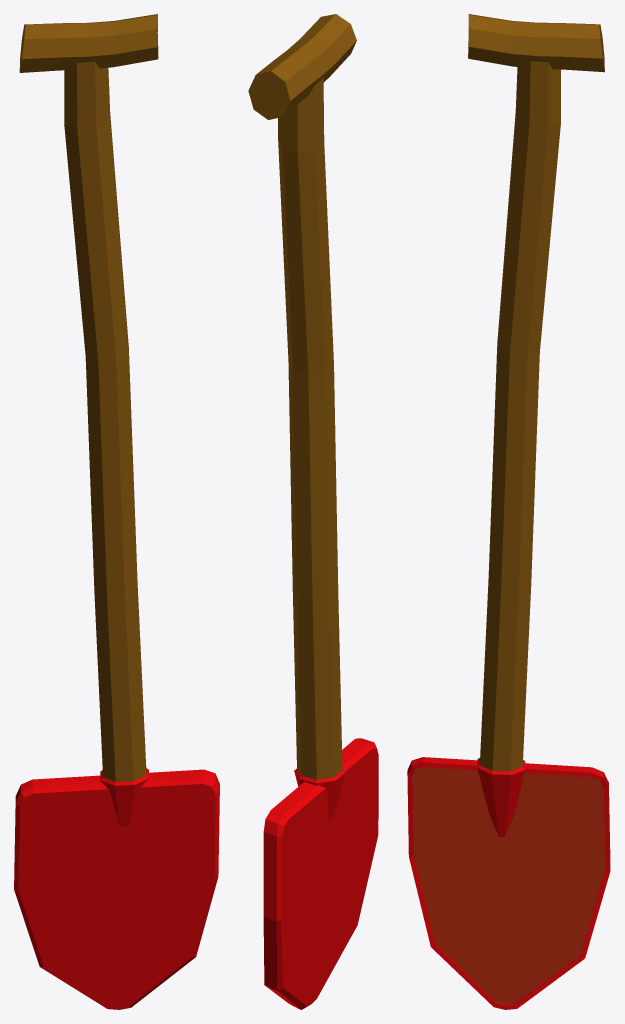
The model's file is badile2.glb.
3 renders of one model, left to right at view 1: azimuth 90°, elevation 25°; view 2: azimuth 150°, elevation 25°; view 3: azimuth 270°, elevation 25°, orthographic.
Visible parts, largest first — view 1: Circle.001; view 2: Circle.001; view 3: Circle.001.
Boxes of the visible parts, box(x1,y1,x2,y2) form: Circle.001: box(14, 14, 219, 1009); Circle.001: box(248, 14, 378, 1009); Circle.001: box(407, 14, 610, 1009).
Size of the model in its own units: 0.6183 by 13.17 by 2.46.
